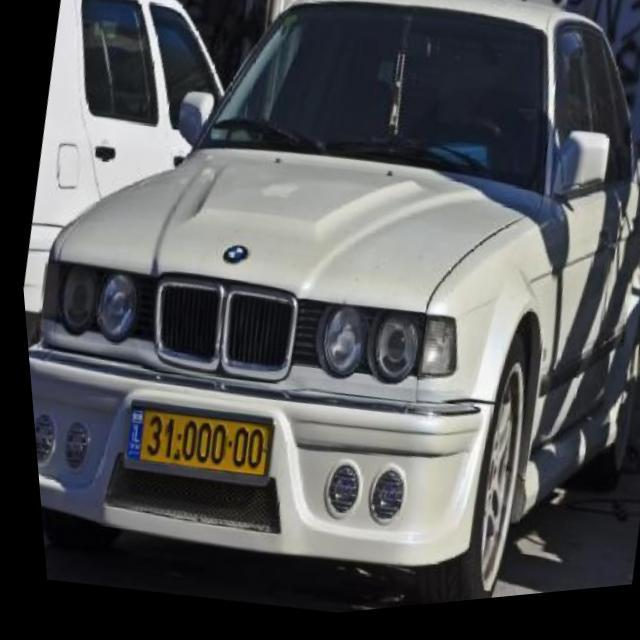license_plate: (108, 392, 274, 502)
